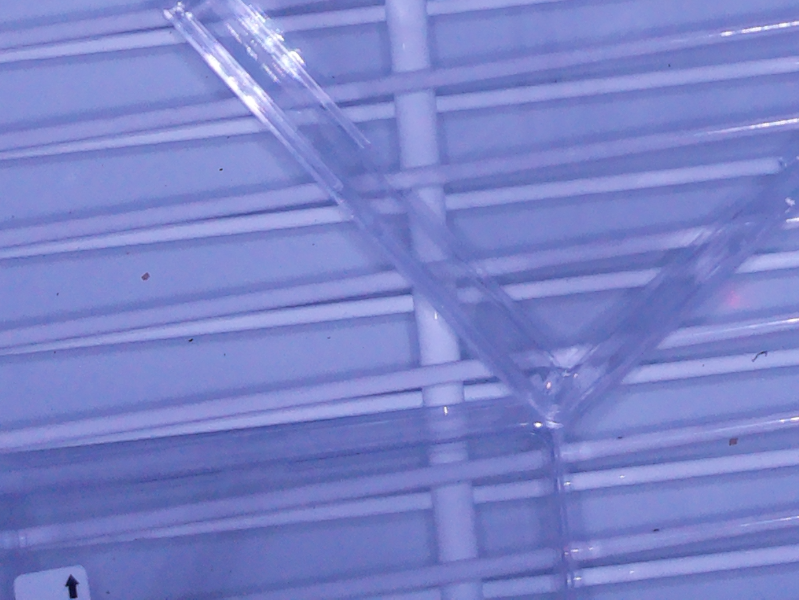plate: (159, 1, 799, 435), (1, 406, 577, 600)
